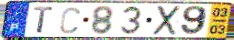3: (118, 5, 144, 36)
8: (89, 4, 115, 37)
9: (180, 5, 211, 37)
C: (59, 5, 82, 34)
T: (32, 6, 55, 34)
X: (151, 5, 183, 37)
